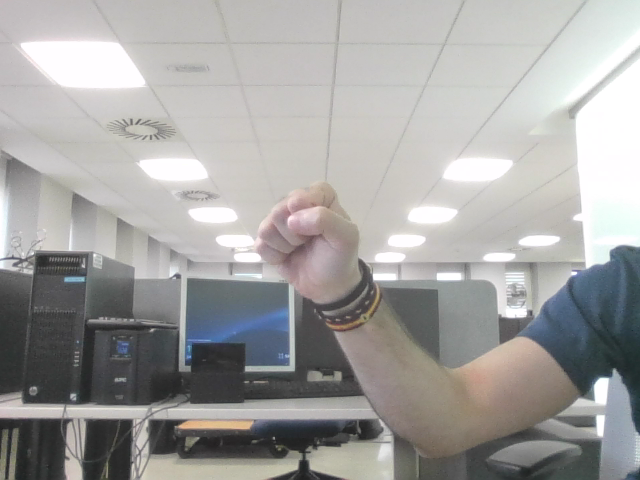Puño: (264, 198, 342, 261)
